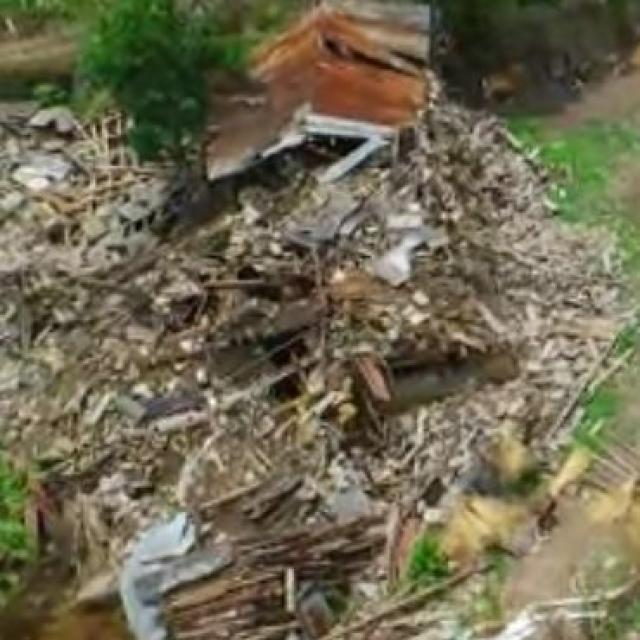collapsed_building: (0, 95, 583, 588)
